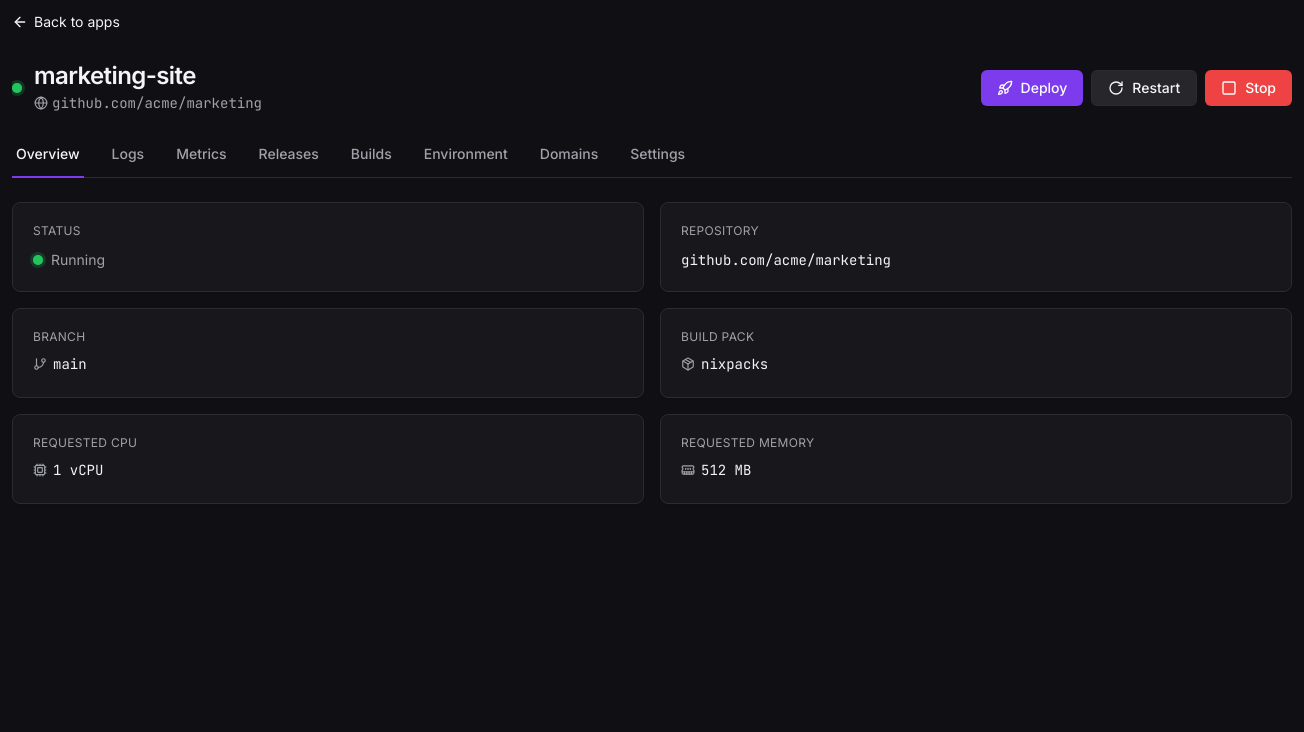
Test: AppDetailPage — domains › shows the backend message when deleting a domain fails
This screenshot has width=1304, height=732.
Check: the heading "marketing-site" is shown, box [34, 61, 196, 90]
Click the tab "Domains": (569, 159) [536, 140, 602, 178]
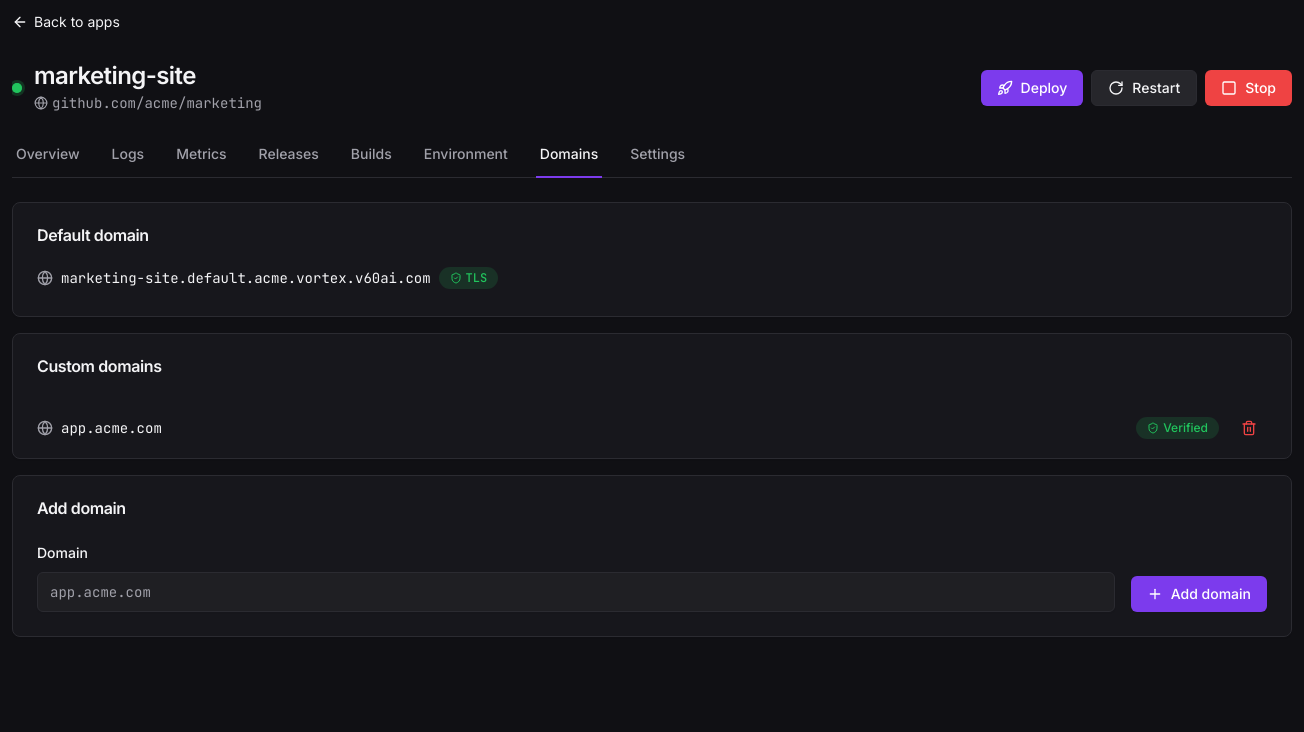
Check: the text "app.acme.com" is shown, box [61, 418, 162, 438]
Click the button named "Delete domain": (1249, 428) [1231, 410, 1267, 446]
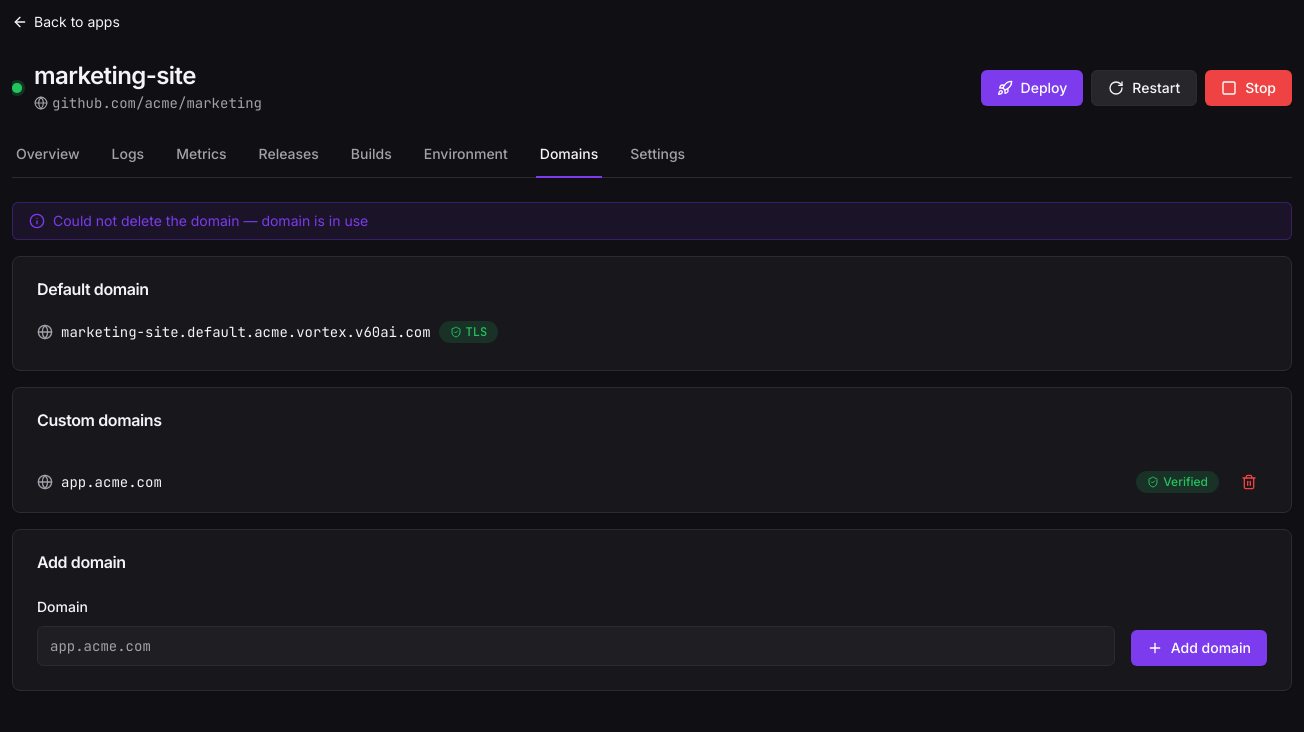
Check: the text "Could not delete the domain — domain is in use" is shown, box [53, 212, 368, 229]
